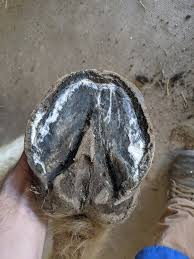horsesole: (25, 69, 156, 195)
